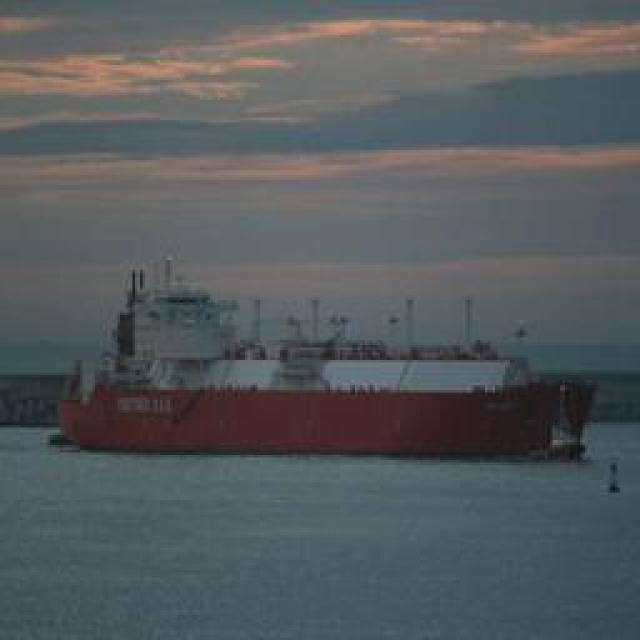CIV_Ship: (56, 282, 602, 462)
